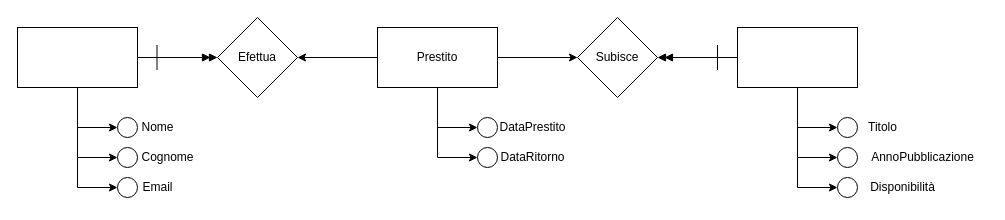
Some shapes in this 1005 by 220 pixel diagram are drawn without their labels. Each missing label, with the box of its shape:
Libro: (736, 26, 858, 88)
Utente: (16, 26, 138, 88)
